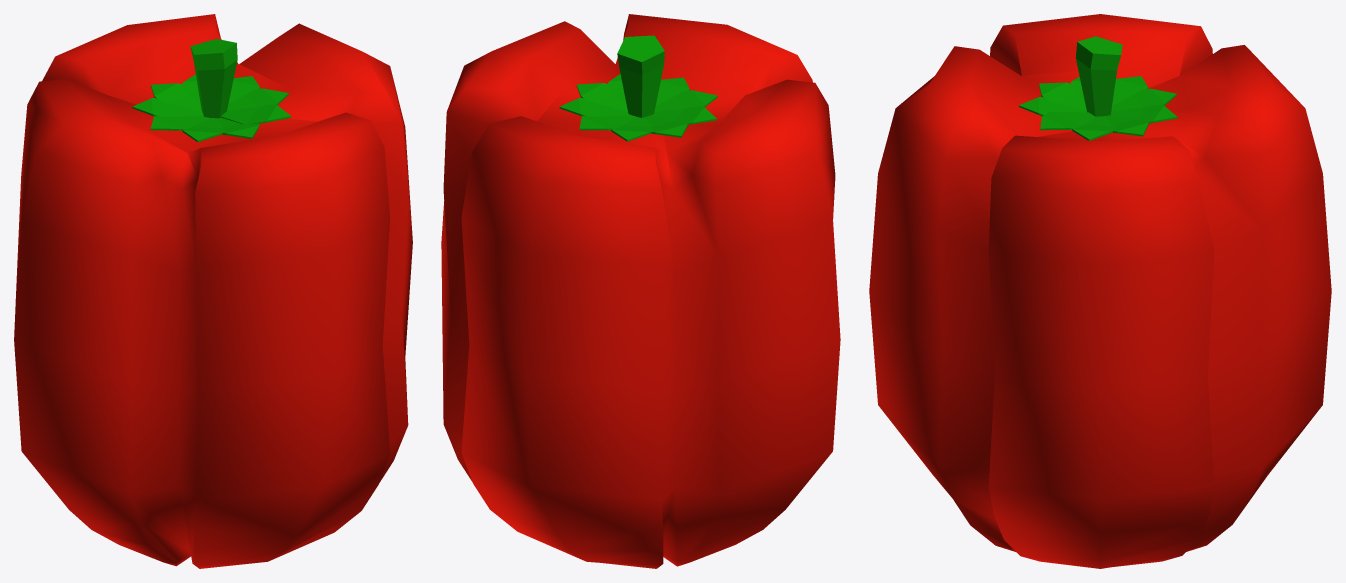
File: Bellpepper.fbx
3 views of the same model, side by side, from view 1: azimuth 30°, elevation 25°; view 2: azimuth 150°, elevation 25°; view 3: azimuth 270°, elevation 25° (orthographic).
Parts seen in each view (by area): view 1: Sphere, Plane, Cylinder; view 2: Sphere, Plane, Cylinder; view 3: Sphere, Plane, Cylinder.
Part boxes in pixels (<box>): Sphere: <box>14,14,412,568</box>; Plane: <box>132,74,291,142</box>; Cylinder: <box>190,39,237,118</box>; Sphere: <box>441,14,840,568</box>; Plane: <box>559,74,717,141</box>; Cylinder: <box>617,35,664,117</box>; Sphere: <box>869,14,1331,568</box>; Plane: <box>1019,76,1177,140</box>; Cylinder: <box>1075,36,1122,116</box>.
Size of the model in its own units: 249 by 297 by 249.
